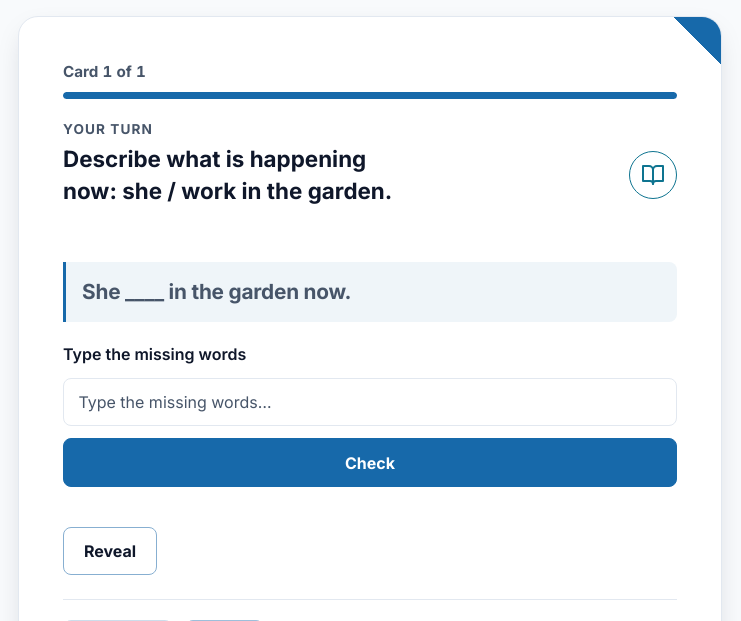
Test: VerbTensesPracticeClient › acepta todas las respuestas declaradas e ignora mayúsculas y espacios
Type "is working" into the field labelled "Type the missing words". click: (370, 402)
box: [63,378,677,426]
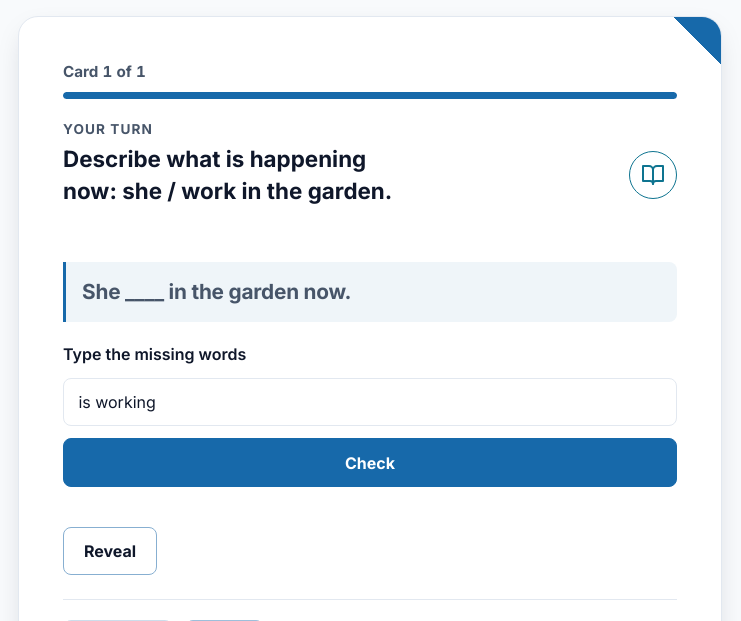
Click the button "Check". click: (370, 463)
box: [63,438,677,487]
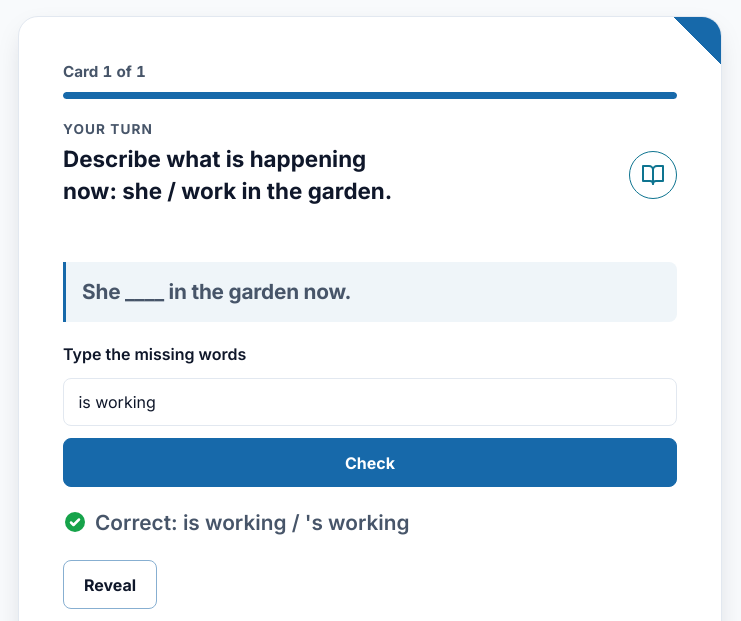
Now the text "Correct: is working / 's working" is shown, box [95,507,410,538]
Replace the text in the field labelled "Type the missing words" with "  'S WORKING ". click: (370, 402)
box: [63,378,677,426]
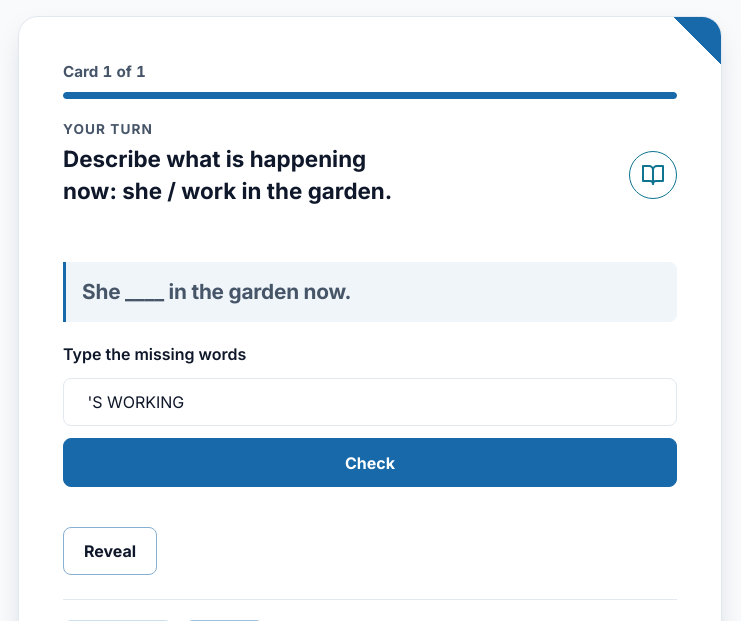
Click the button "Check". click: (370, 463)
box: [63,438,677,487]
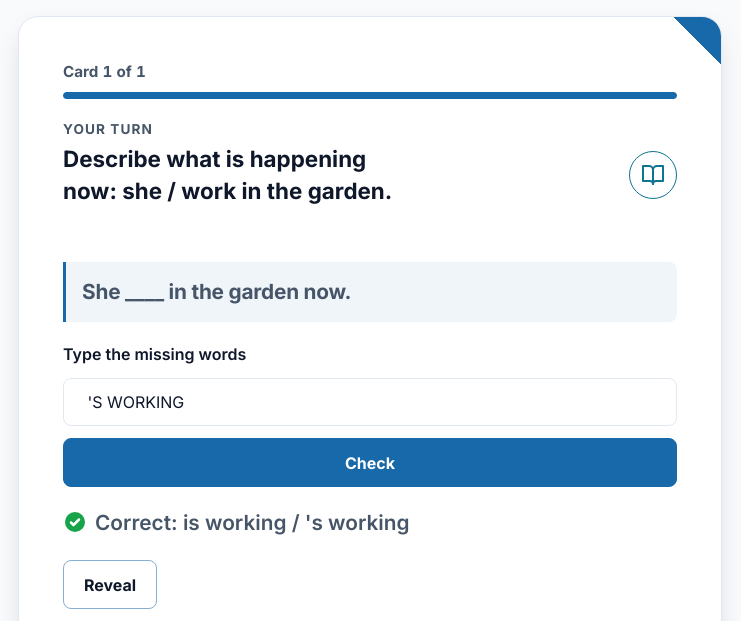
Now the text "Correct: is working / 's working" is shown, box [95,507,410,538]
